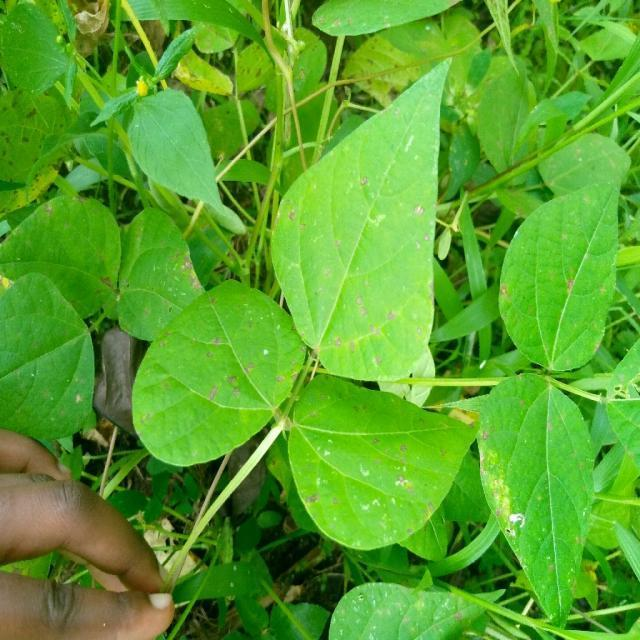embun tepung: (296, 388, 431, 546), (469, 428, 542, 554), (371, 119, 433, 241)
sehat: (291, 123, 443, 359), (169, 316, 273, 441)
